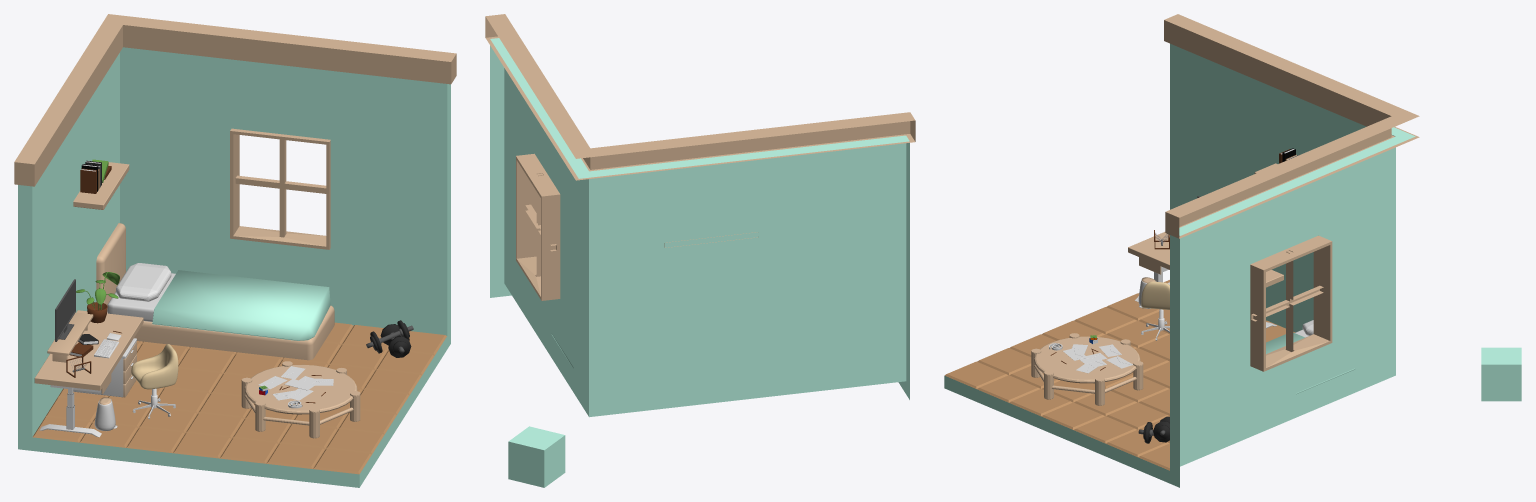
The model's file is final-room.glb.
3 renders of one model, left to right at view 1: azimuth 30°, elevation 25°; view 2: azimuth 150°, elevation 25°; view 3: azimuth 270°, elevation 25°, orthographic. The views are drawn at different scales.
Parts seen in each view (by area): view 1: body, bed, tavolino, desks, floor items, table stuff, shelf, chair, mail, computer; view 2: body, Cube; view 3: body, tavolino, Cube, desks, floor items, mail, chair, bed.
Boxes of the visible parts, x1,y1,x2,y2 form: body: (14,14,456,487); bed: (96,223,334,360); tavolino: (241,361,360,438); desks: (34,310,143,437); floor items: (73,320,413,431); table stuff: (47,272,122,377); shelf: (73,159,129,209); chair: (131,344,178,389); mail: (258,366,333,400); computer: (55,279,75,341); body: (485,14,915,417); Cube: (508,426,565,487); body: (944,14,1419,487); tavolino: (1031,333,1143,405); Cube: (1481,347,1521,401); desks: (1128,232,1283,328); floor items: (1138,277,1169,443); mail: (1063,344,1132,373); chair: (1141,281,1169,309); bed: (1266,320,1355,394).
Size of the model in its own units: 9.07 by 5.76 by 10.85.
